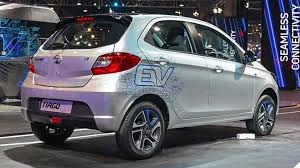Tiago: (22, 12, 283, 162)
